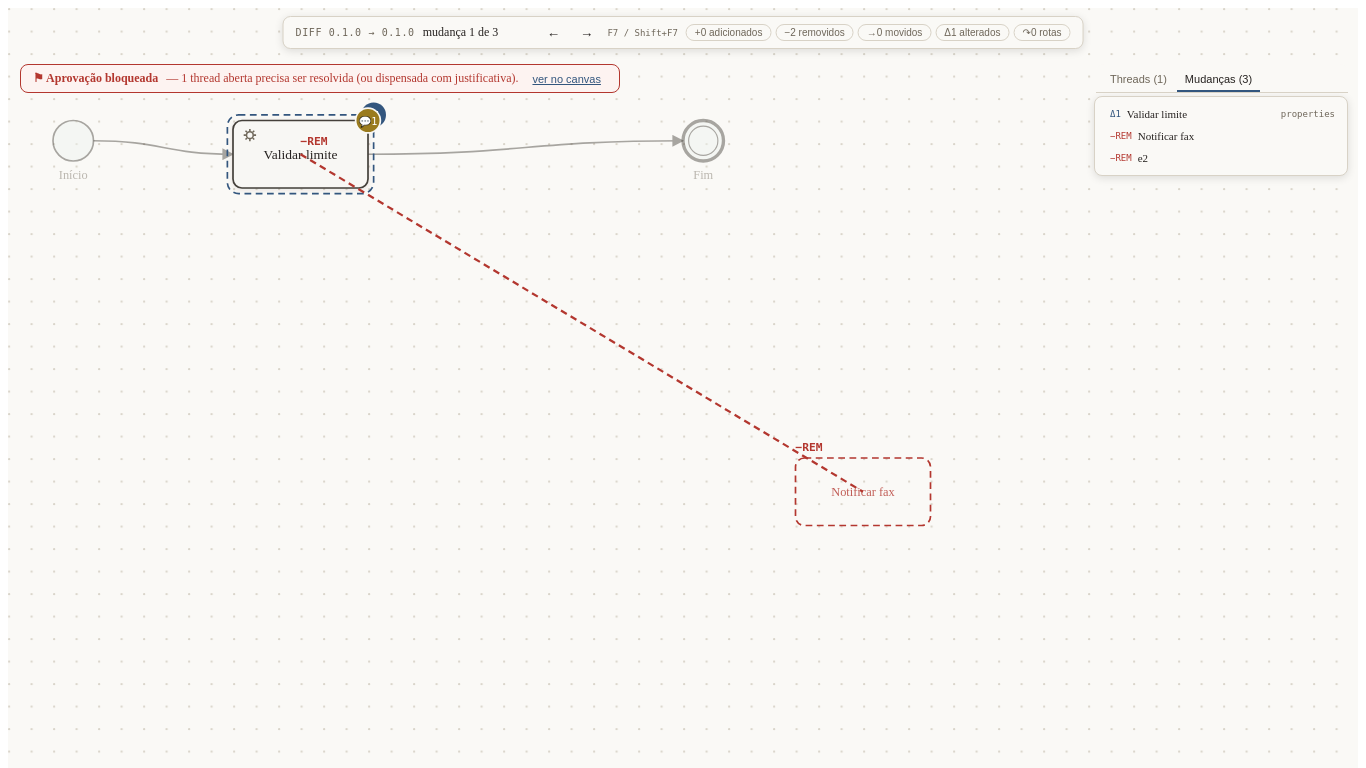
it: review panel embed (spec 2d — react side) › dispensa: justificativa mínima obrigatória, store atualiza e o host audita
Click the tab "Threads (1)" at (1138,80), box [1102,68,1175,92]
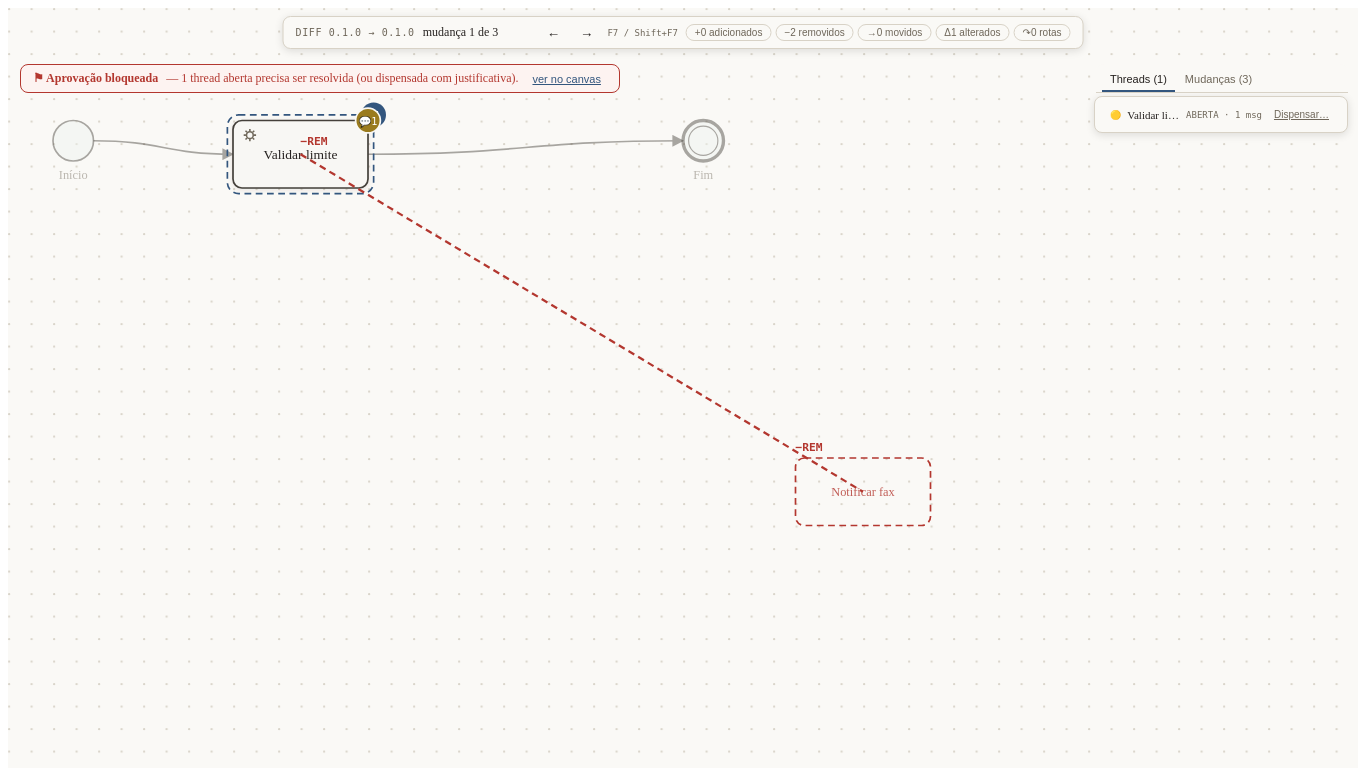
Click the button "Dispensar…" at (1302,114), box [1268,108,1335,121]
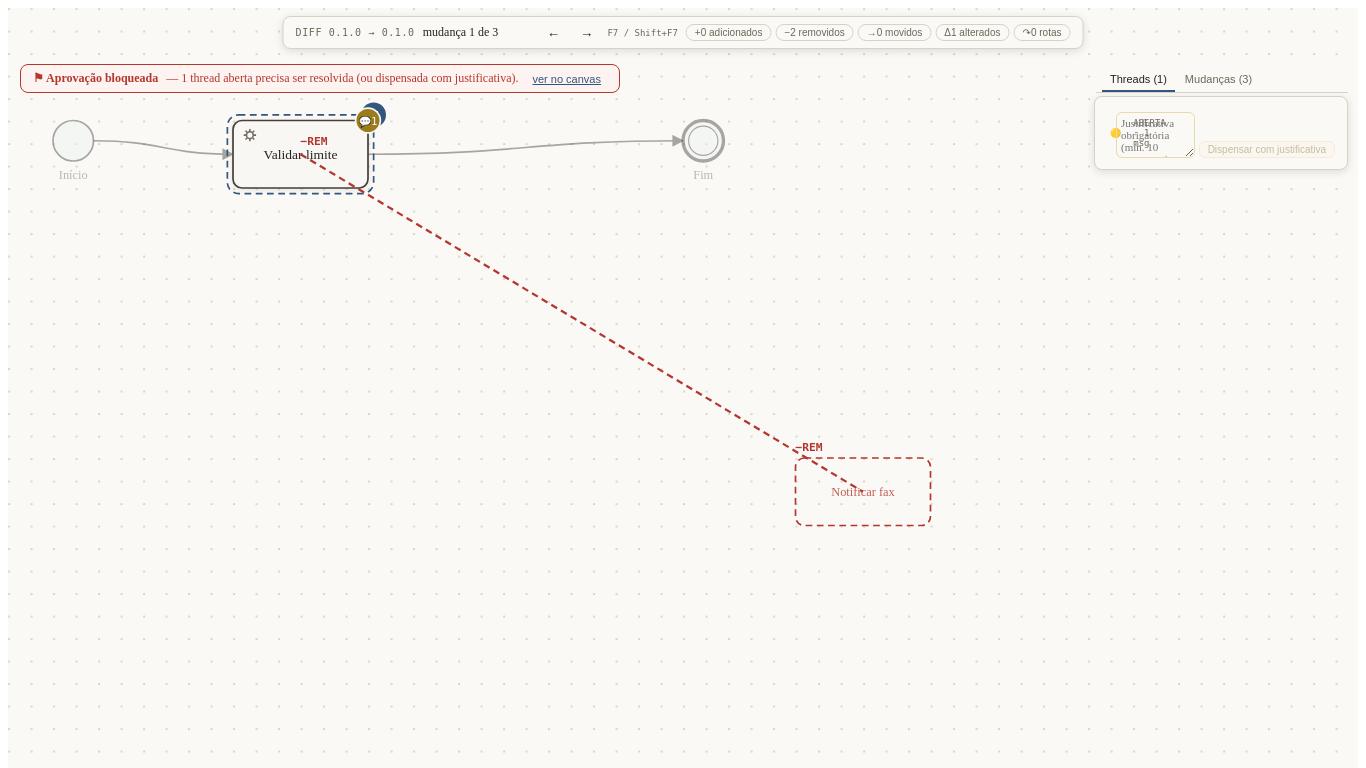
Type "curta" into the text box with placeholder "Justificativa obrigatória (mín. 10 caracteres)" at (1155,135), box [1116,112,1195,158]
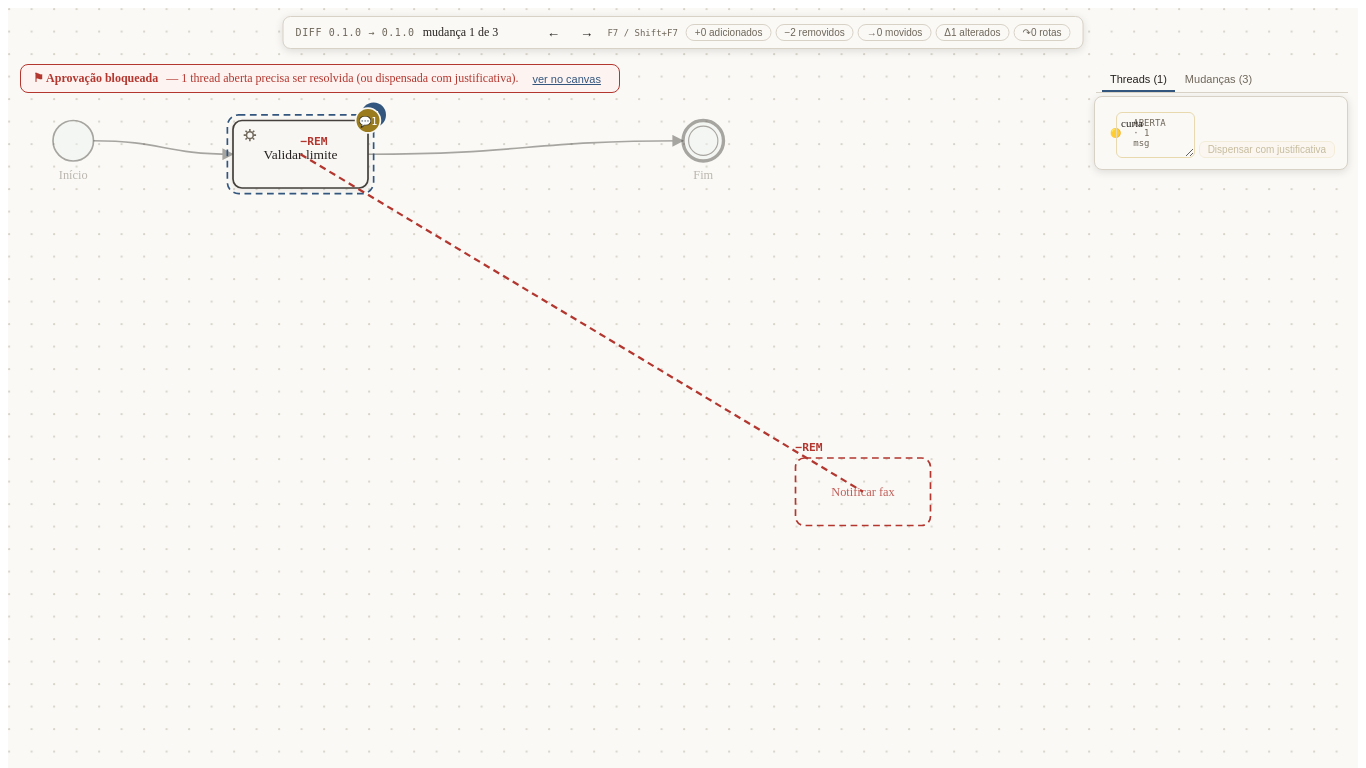
Result: the button "Dispensar com justificativa" is disabled at [1199,141,1335,158]
Replace the text in the text box named "Justificativa da dispensa" with "risco aceito pelo comitê" at (1155,135), box [1116,112,1195,158]
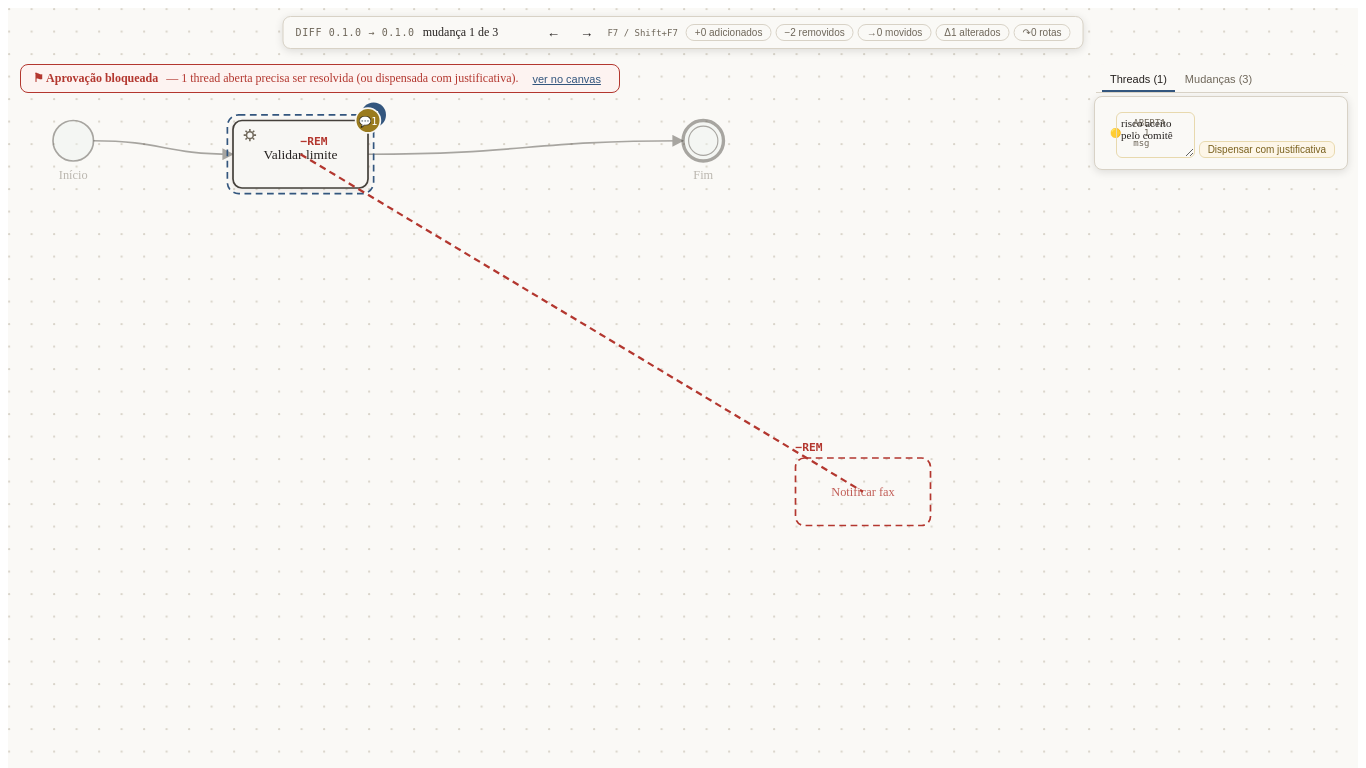
Result: the button "Dispensar com justificativa" is enabled
Click the button "Dispensar com justificativa" at (1267,150), box [1199,141,1335,158]
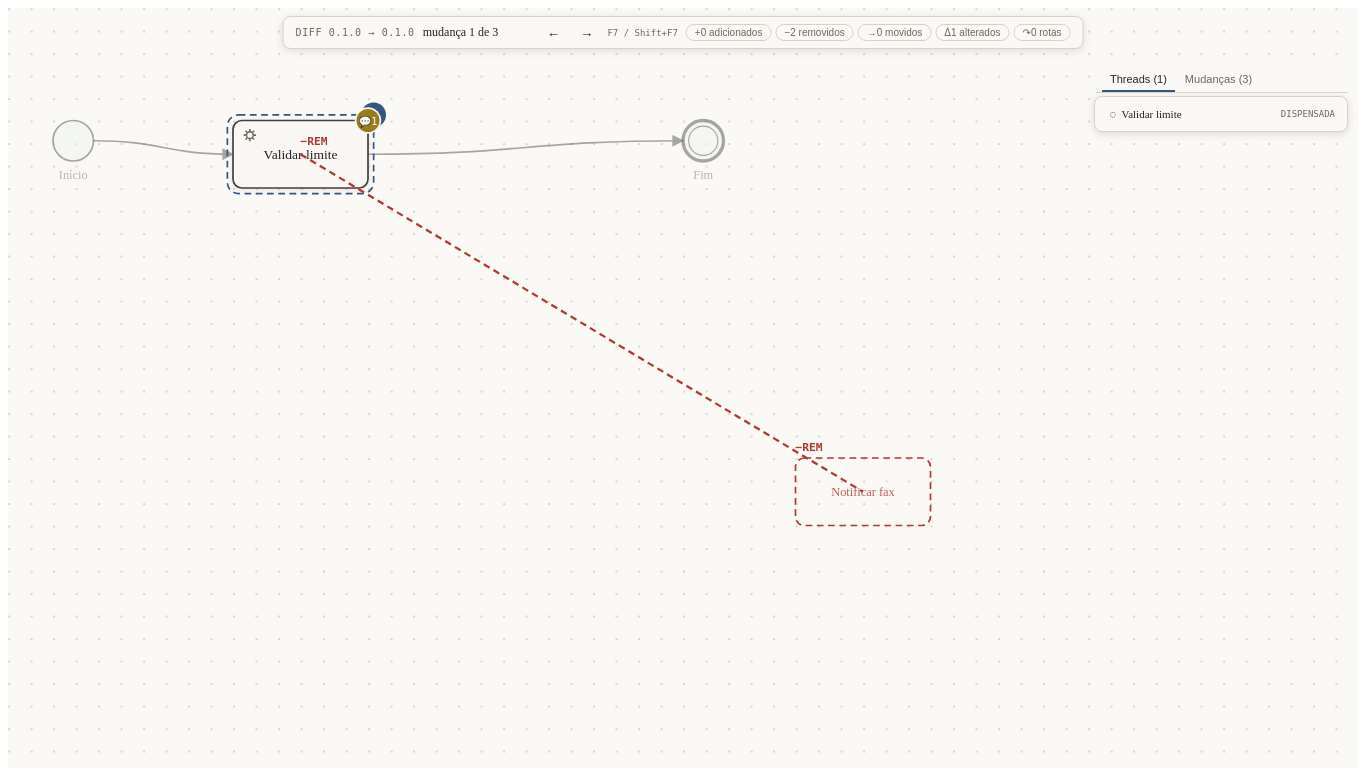
Result: the message with test id "review-gate-banner" is gone
